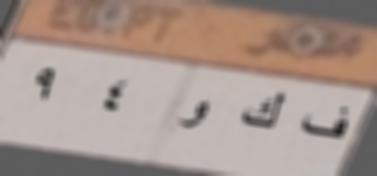4: (96, 73, 131, 117)
9: (28, 64, 61, 103)
faa: (299, 100, 351, 148)
kaaf: (239, 82, 286, 138)
waw: (176, 98, 212, 137)
